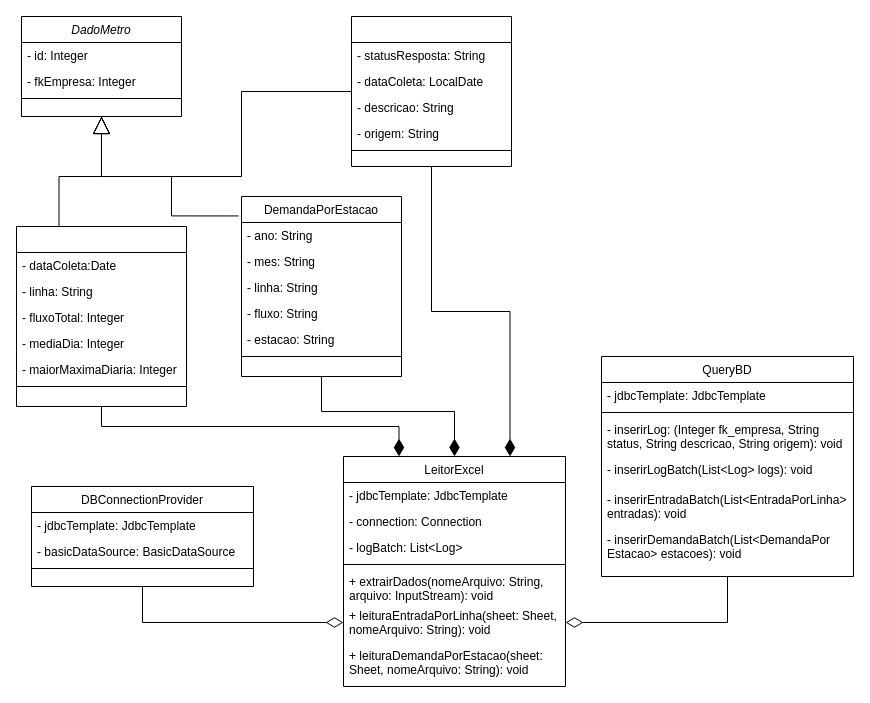
The diagram is 870 pixels wide and 703 high, and some of its shapes have lost their labels. The box of each missing label's shape, as (x1, y1, x2, y2) in pixels:
EntradaPorLinha: (16, 226, 186, 406)
Log: (350, 16, 512, 166)
